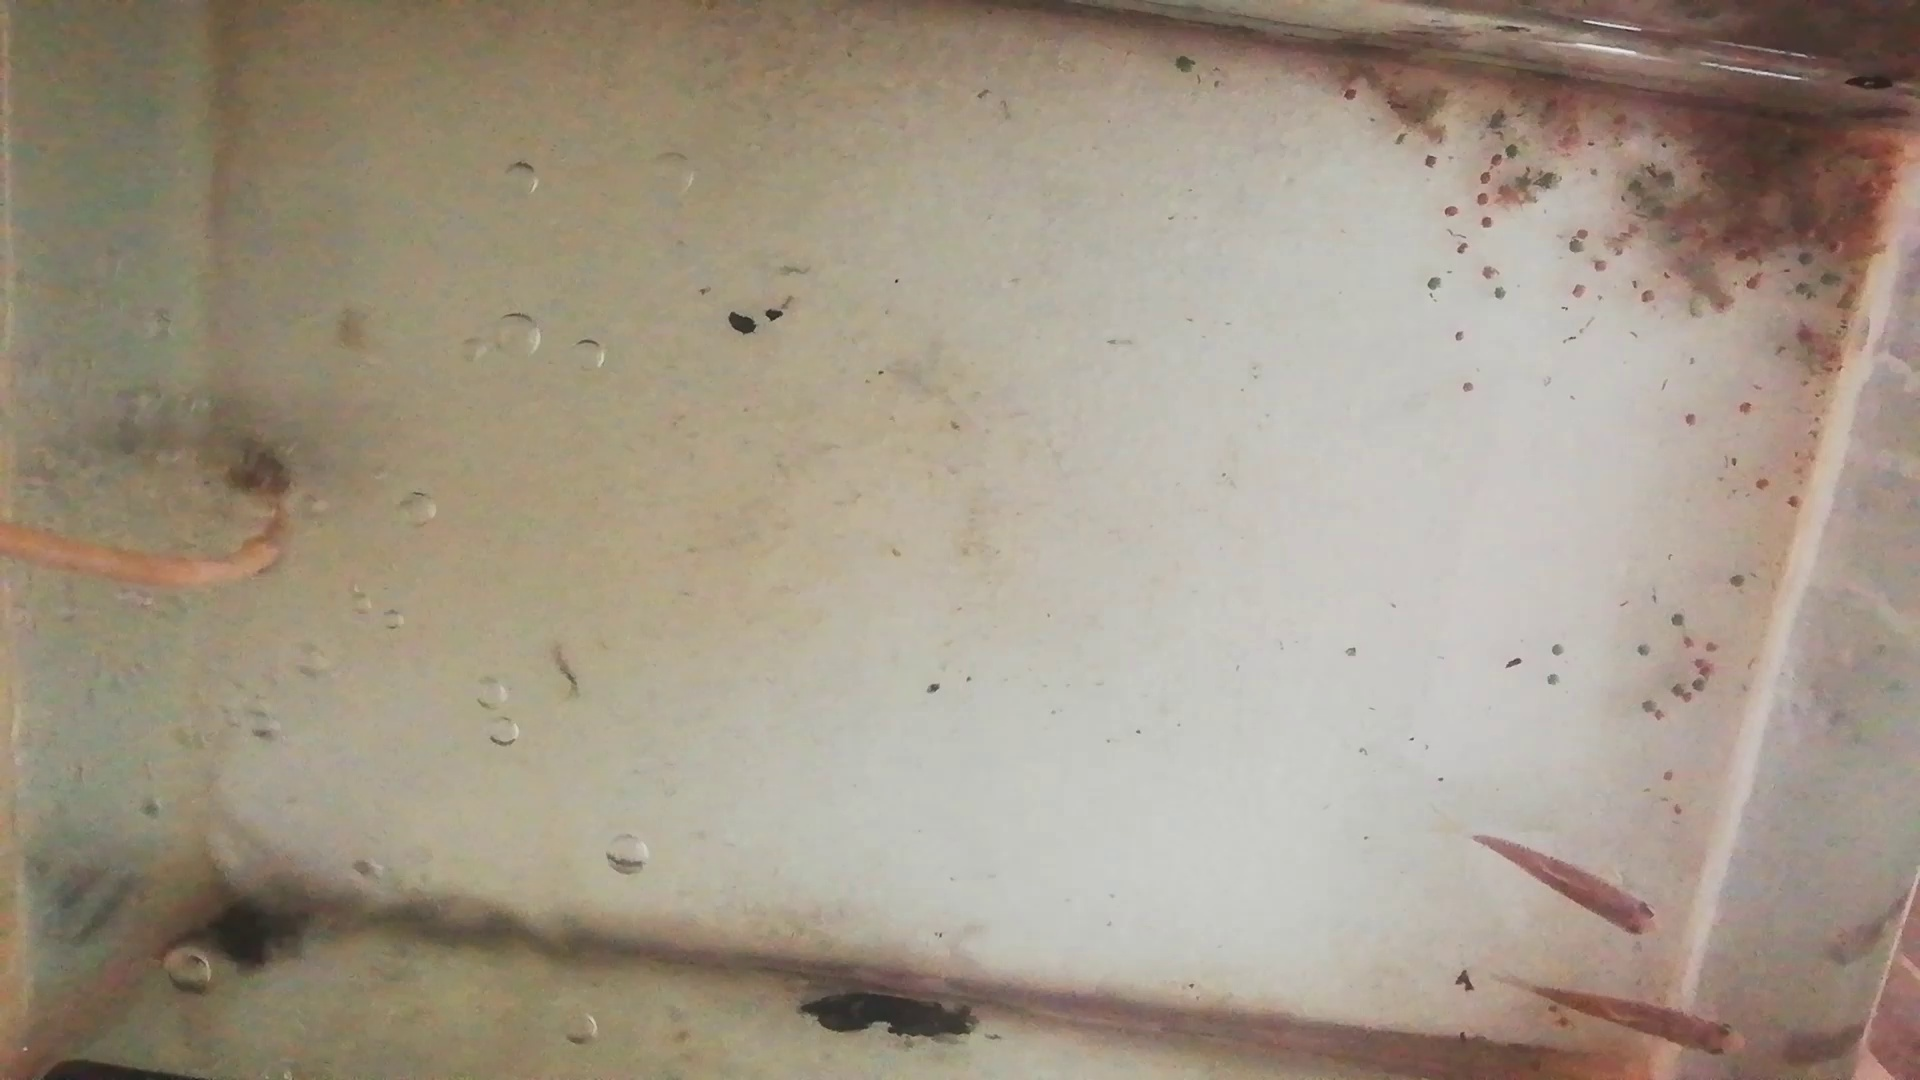fish: (1472, 835, 1659, 938), (1538, 986, 1746, 1058)
